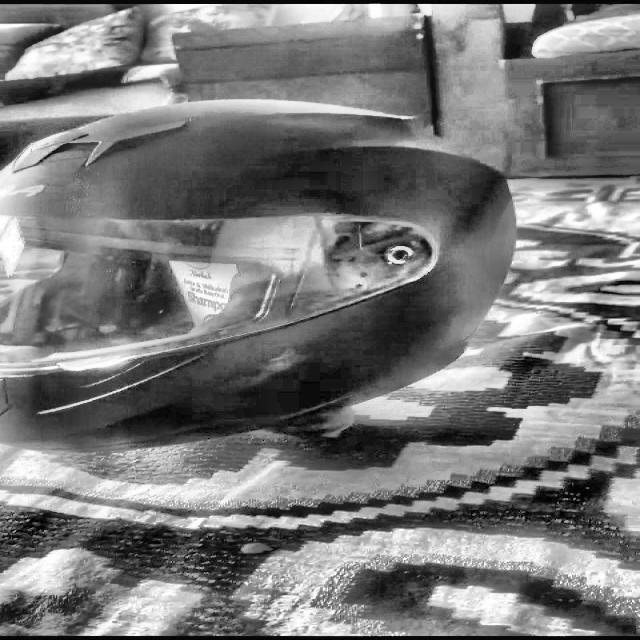Helmet: (0, 90, 509, 474)
